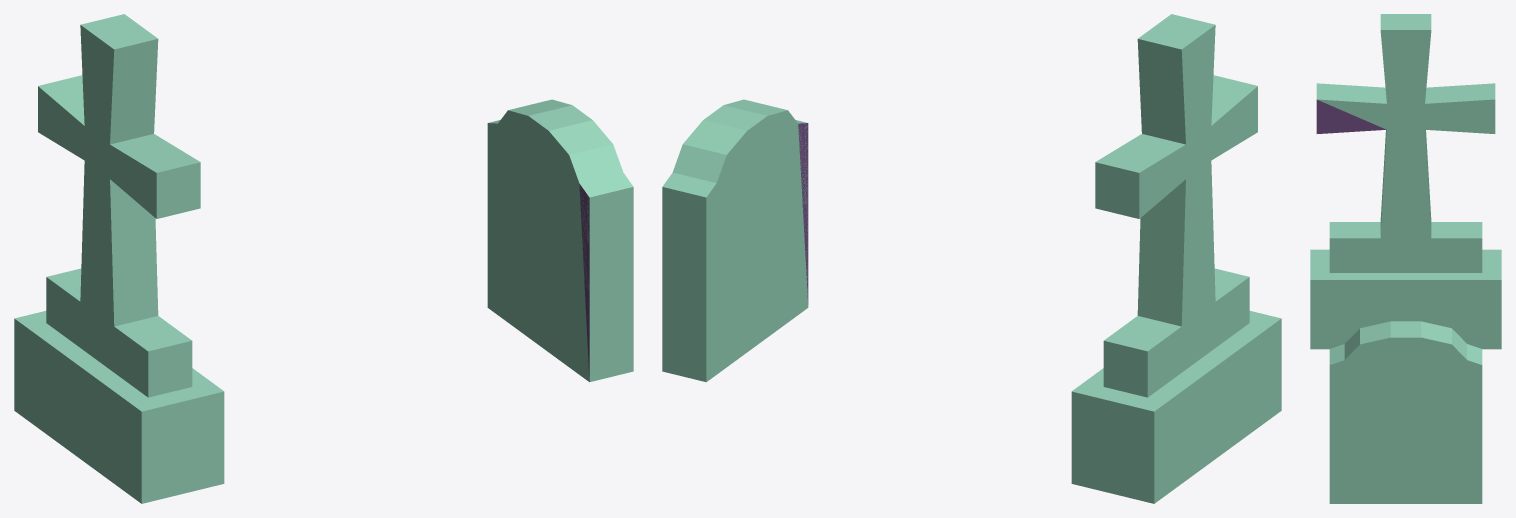
3 renders of one model, left to right at view 1: azimuth 30°, elevation 25°; view 2: azimuth 150°, elevation 25°; view 3: azimuth 270°, elevation 25°, orthographic. The views are drawn at different scales.
Parts seen in each view (by area): view 1: 004-0-4.002, 004-0-4.001; view 2: 004-0-4.002, 004-0-4.001; view 3: 004-0-4.002, 004-0-4.001.
Boxes of the visible parts, x1,y1,x2,y2 form: 004-0-4.002: (14, 14, 224, 503); 004-0-4.001: (487, 99, 633, 382); 004-0-4.002: (1071, 14, 1281, 503); 004-0-4.001: (662, 99, 808, 382); 004-0-4.002: (1310, 14, 1501, 349); 004-0-4.001: (1329, 321, 1482, 503).
Size of the model in its own units: 1.43 by 1.12 by 0.6248.
